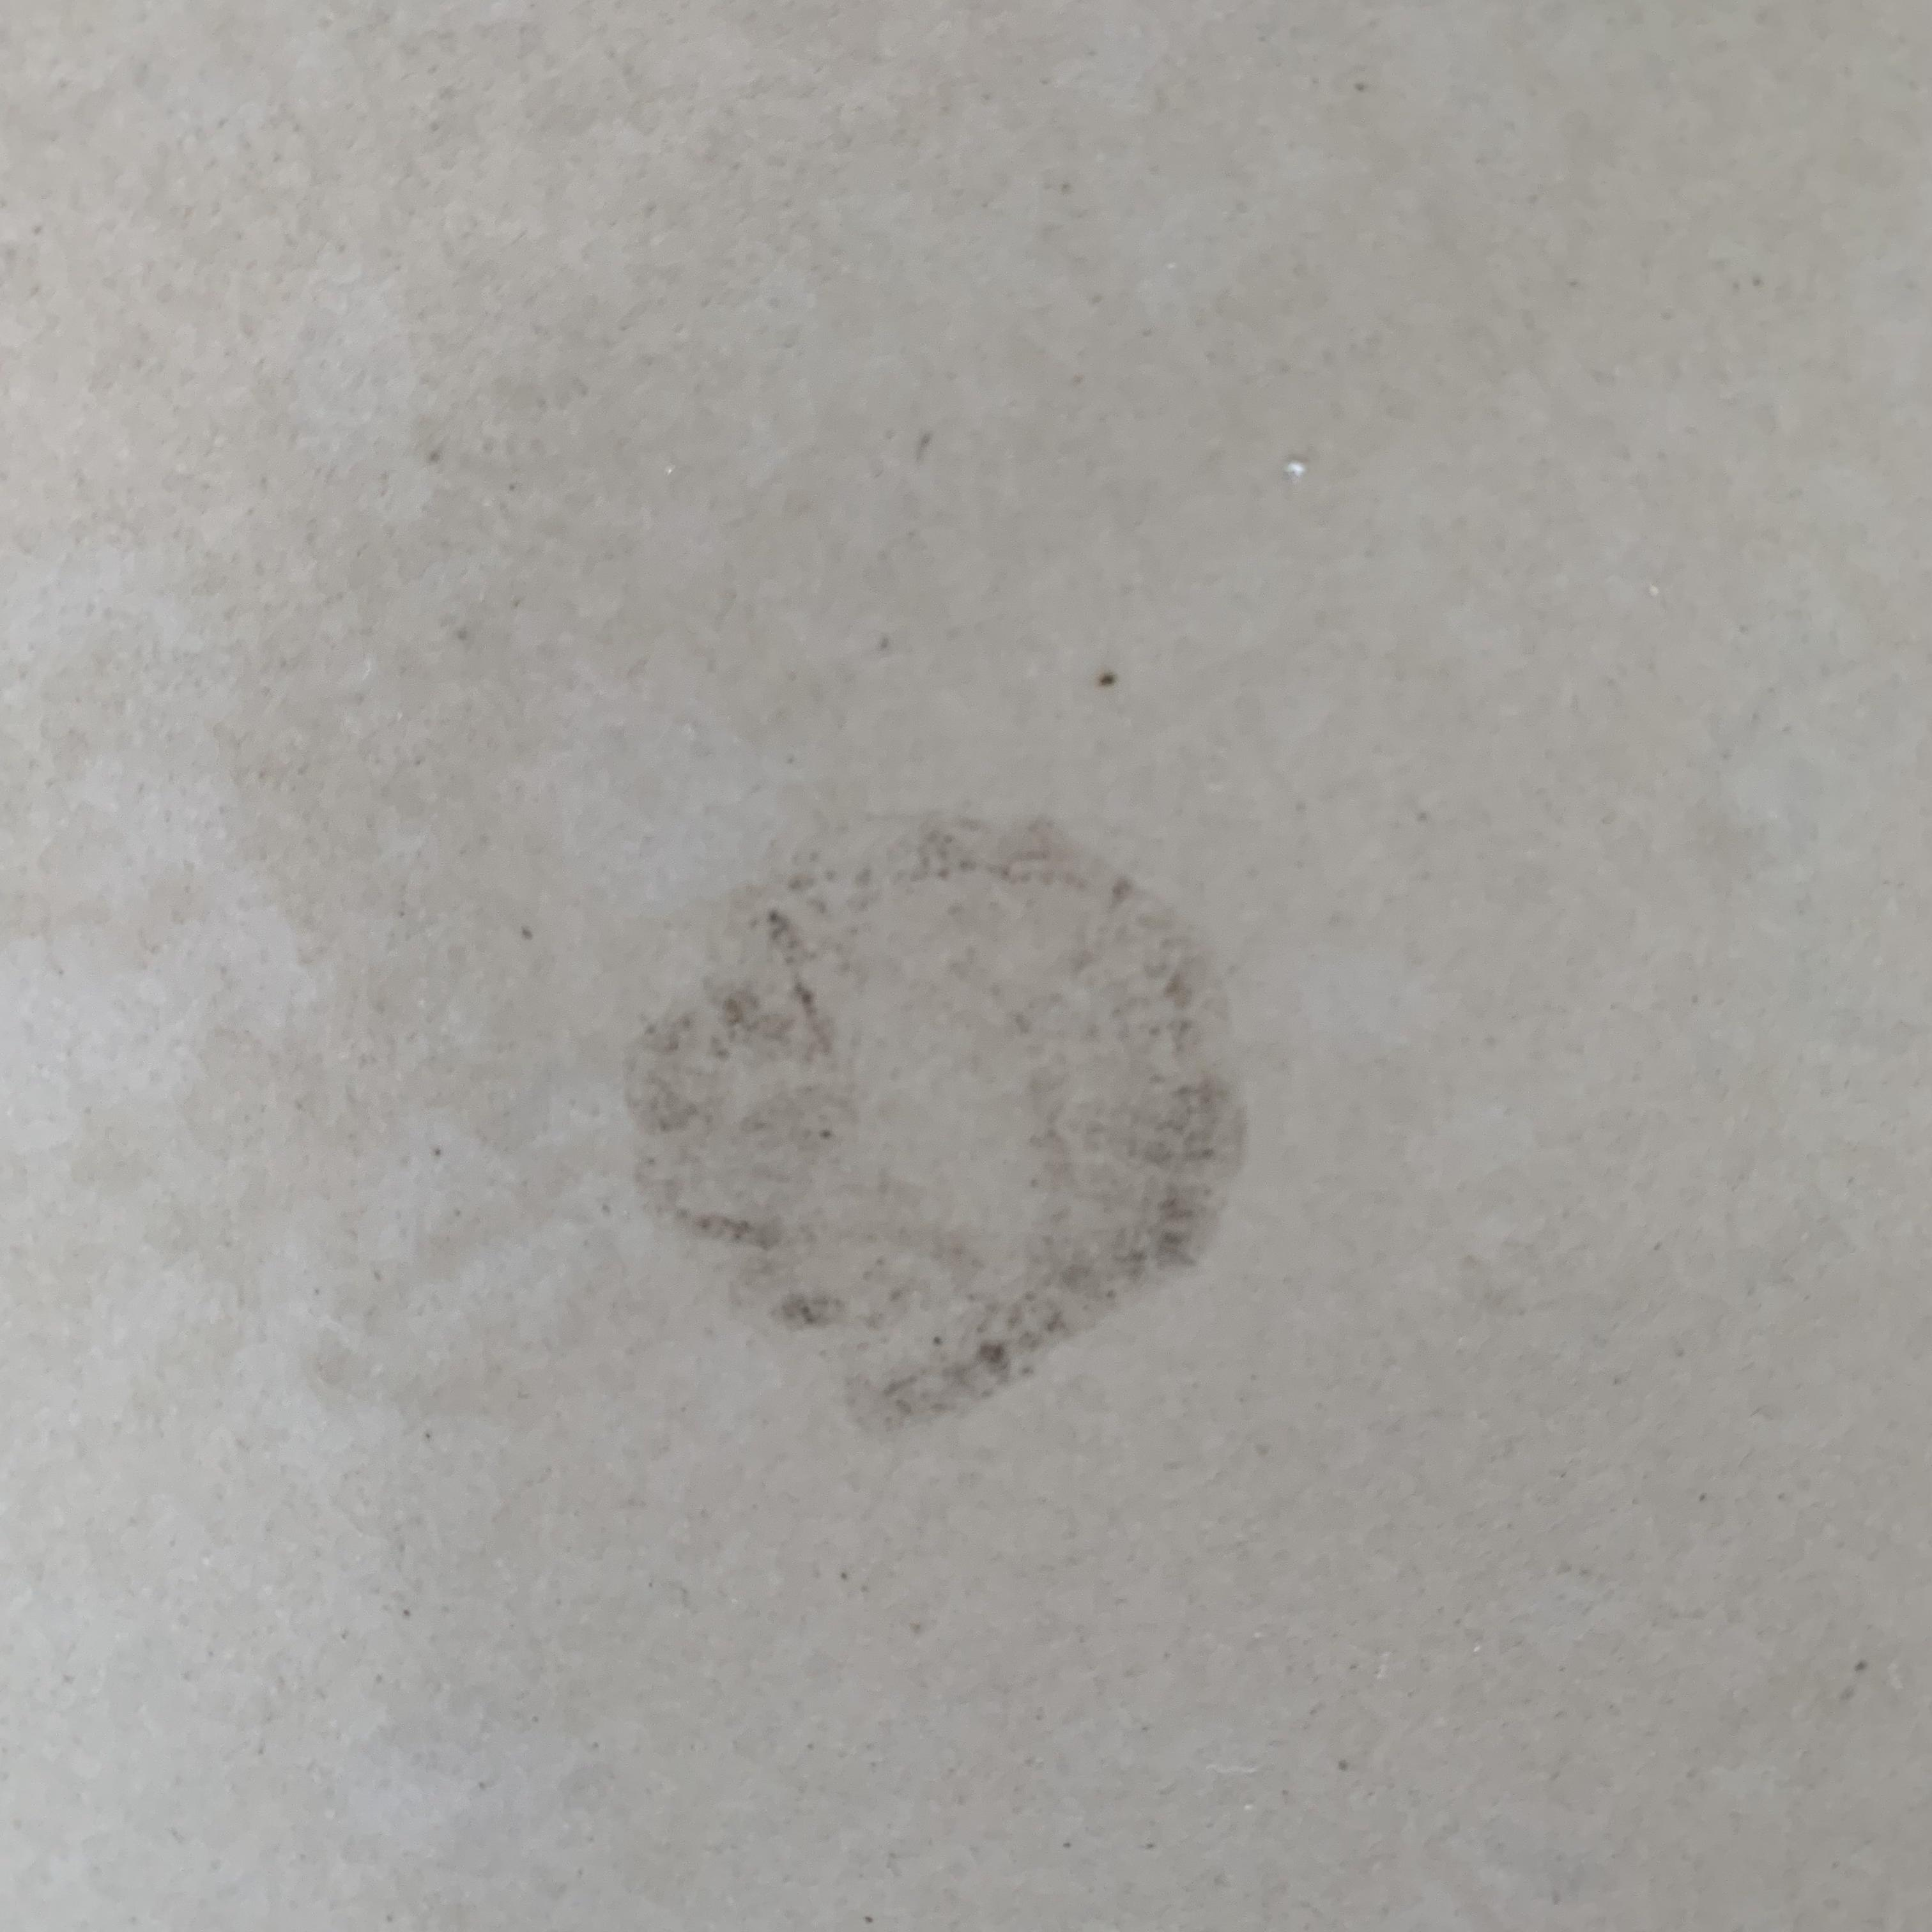grey spot: (626, 805, 1249, 1444)
